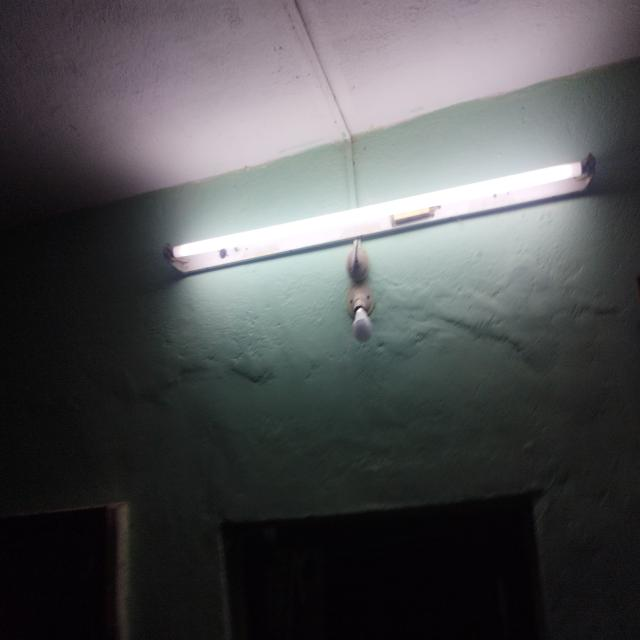tubelight_on: (163, 150, 605, 283)
